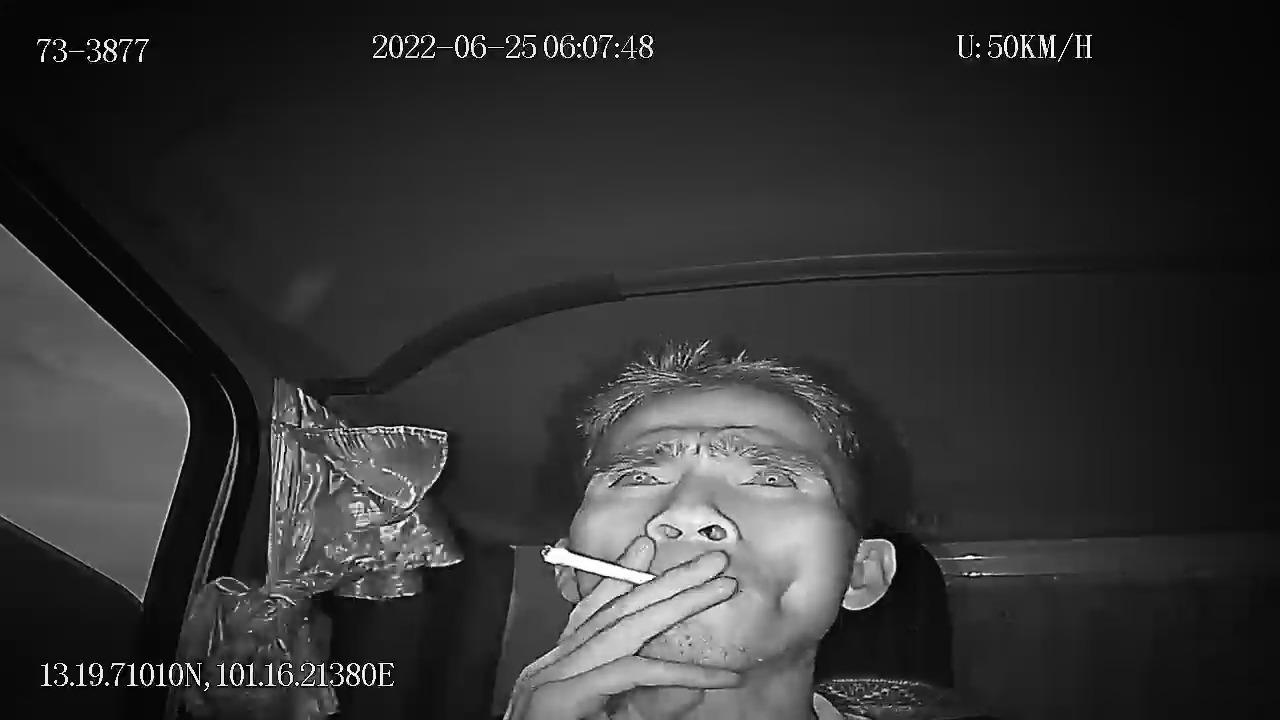Smoking: (516, 525, 665, 602)
